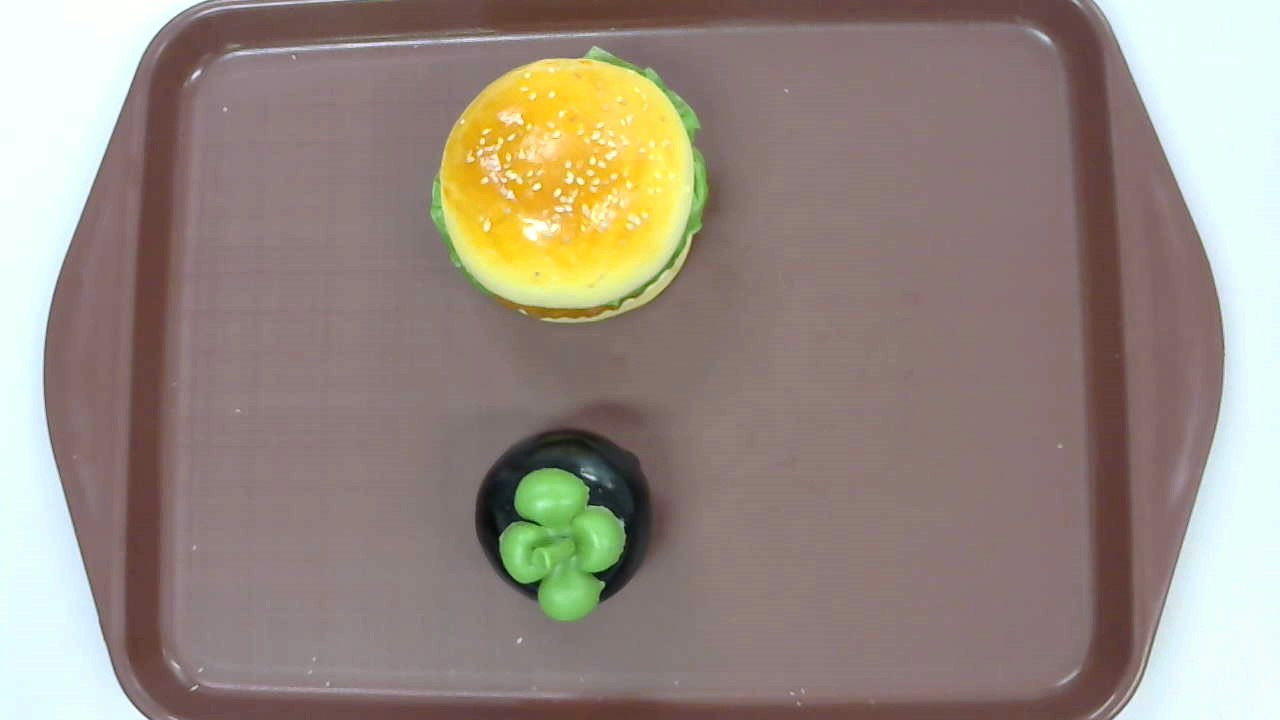hamburger: (428, 46, 708, 327)
mangosteen: (475, 427, 653, 622)
